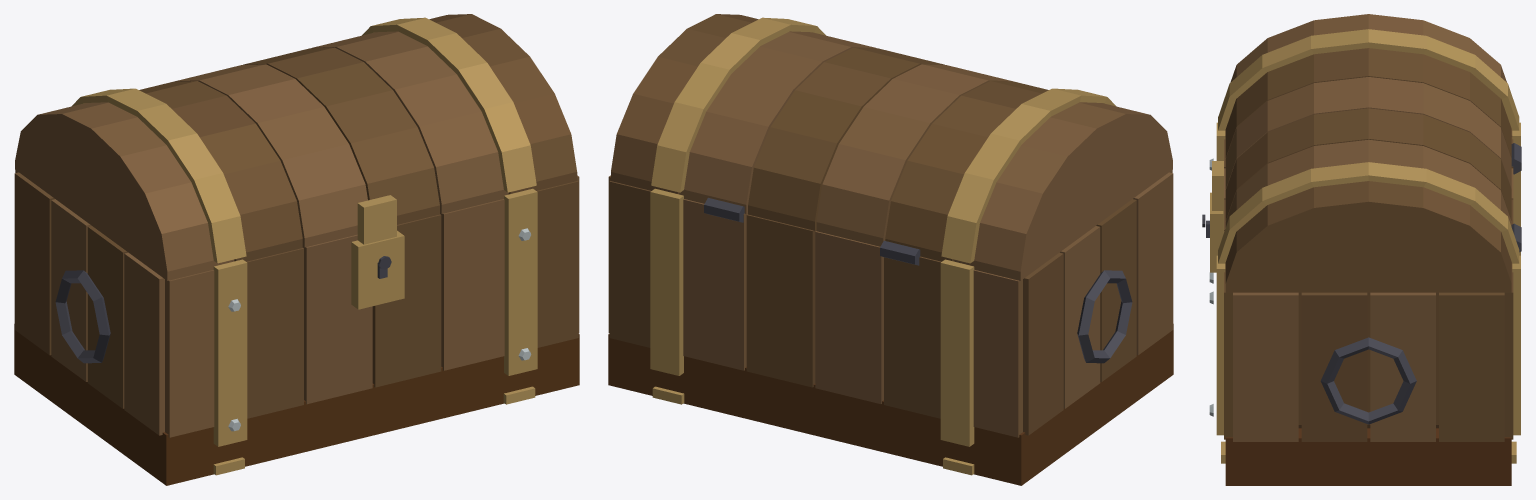
File: treasure_chest.glb
The picture shows the model from 3 angles, left to right: view 1: azimuth 30°, elevation 25°; view 2: azimuth 150°, elevation 25°; view 3: azimuth 270°, elevation 25°; orthographic projection. The views are drawn at different scales.
Parts seen in each view (by area): view 1: treasure_chest, treasure_chest_lid; view 2: treasure_chest, treasure_chest_lid; view 3: treasure_chest_lid, treasure_chest.
Part boxes in pixels (box(x1,y1,x2,y2)): treasure_chest: box(14, 170, 579, 485); treasure_chest_lid: box(15, 14, 577, 280); treasure_chest: box(608, 170, 1173, 485); treasure_chest_lid: box(611, 14, 1172, 280); treasure_chest_lid: box(1212, 14, 1519, 292); treasure_chest: box(1202, 122, 1521, 485).
Bounding box in the file's own units: 0.998 × 0.6689 × 0.6696.
